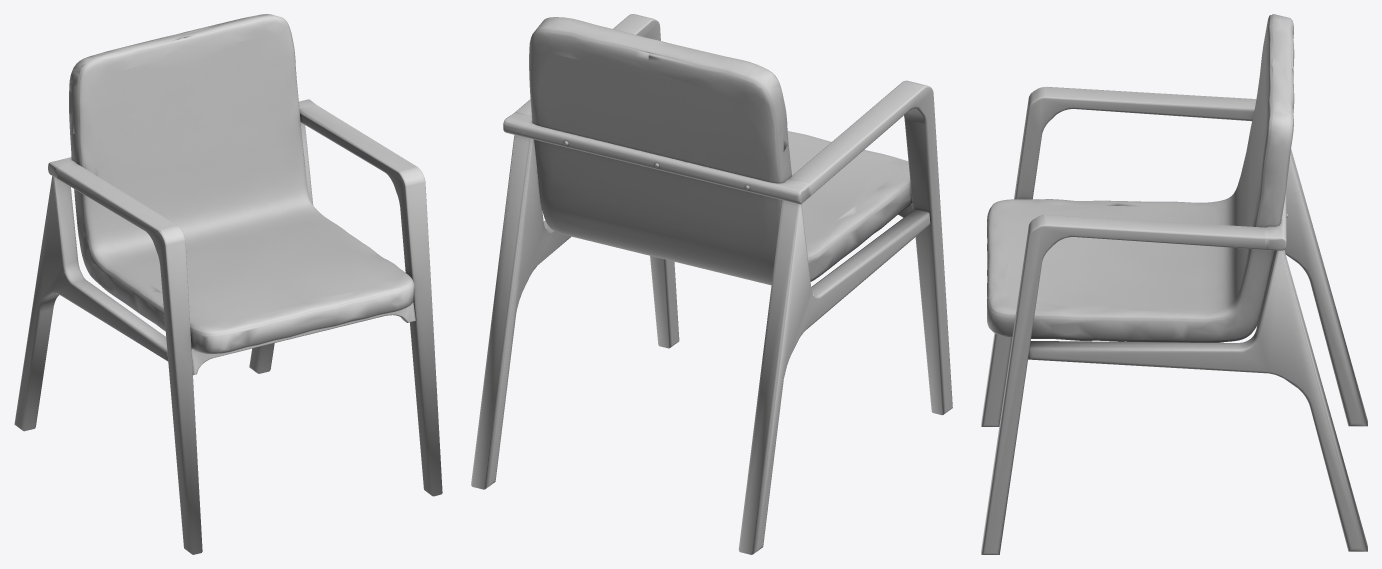
File: raw_model.obj
3 views of the same model, side by side, from view 1: azimuth 30°, elevation 25°; view 2: azimuth 150°, elevation 25°; view 3: azimuth 270°, elevation 25° (orthographic). The views are drawn at different scales.
Parts seen in each view (by area): view 1: solid; view 2: solid; view 3: solid.
Boxes of the visible parts, x1=… form: solid: x1=14, y1=14, x2=442, y2=554; solid: x1=471, y1=14, x2=952, y2=554; solid: x1=981, y1=14, x2=1367, y2=554.
Size of the model in its own units: 0.5562 by 0.7971 by 0.6544.
1 material, 1 textured.
